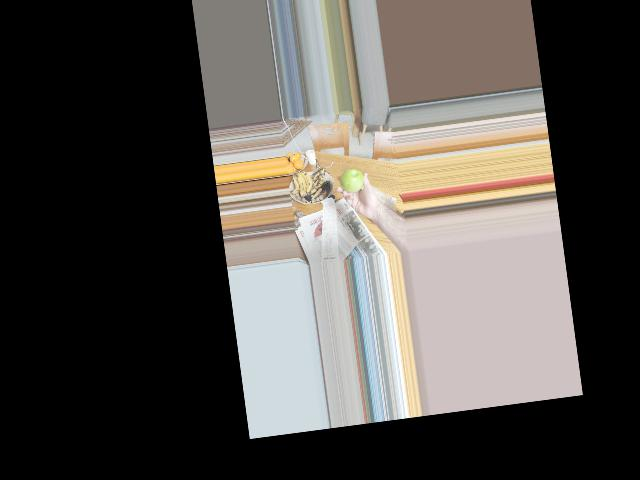apple: (338, 164, 367, 197)
